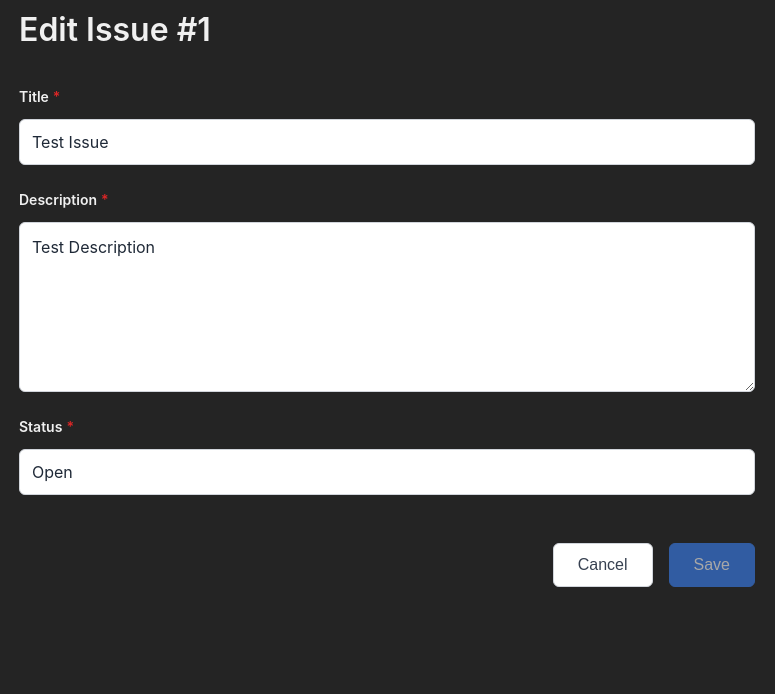
Test case: EditIssuePage › API errors › displays error message when update fails
Replace the text in the field labelled "Title*" with "Updated Title" at (387, 142), box [19,119,755,165]
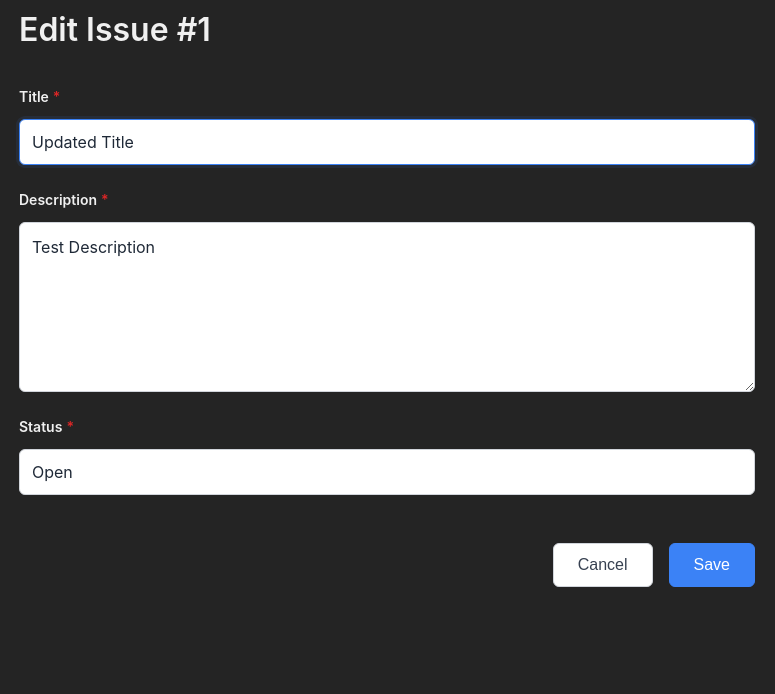
Click the button "Save" at (712, 565), box [668,543,755,587]
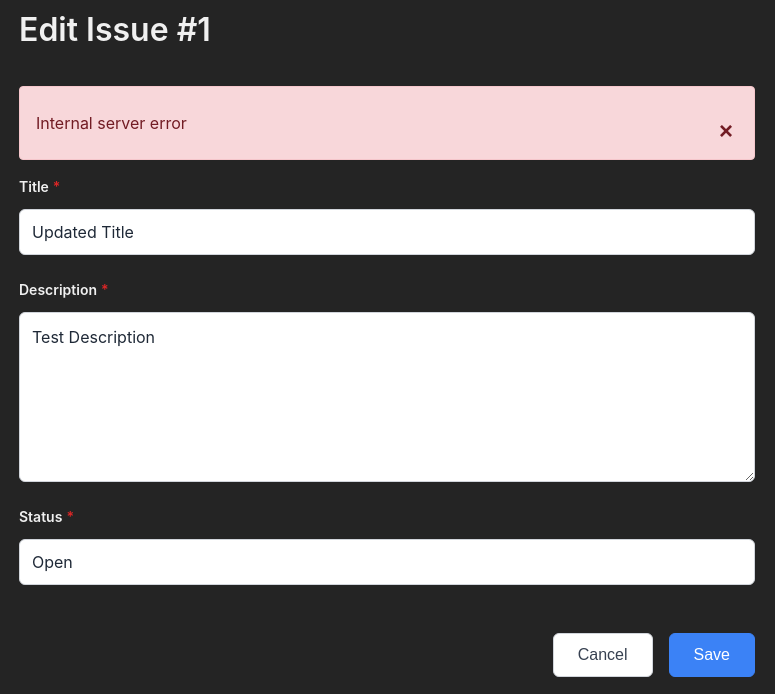
Result: the text "Internal server error" is shown at [36,113,187,133]
